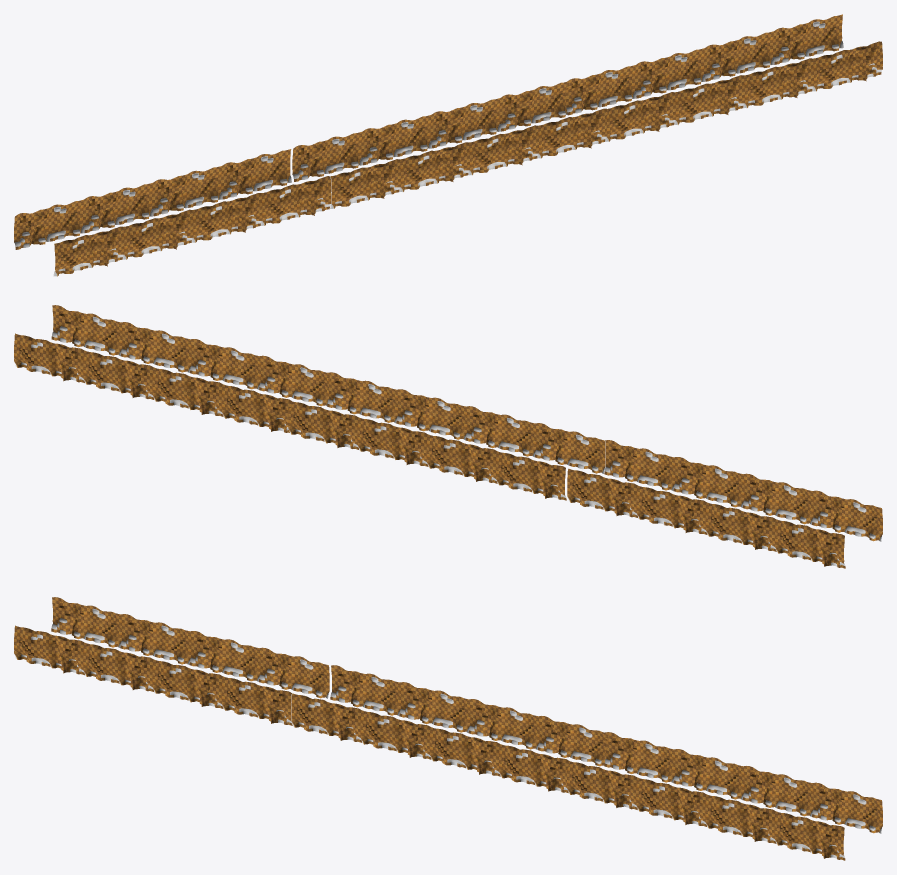
Rendered from RoadSides.obj.
The picture shows the model from 3 angles, top to bottom: view 1: azimuth 30°, elevation 25°; view 2: azimuth 150°, elevation 25°; view 3: azimuth 330°, elevation 25°; orthographic projection.
Parts seen in each view (by area): view 1: ghz01A_sk_rockwallC_03.006_ghz01A_sk_rockwallC_03.008, ghz01A_sk_rockwallC_02.001_ghz01A_sk_rockwallC_02.004, ghz01A_sk_rockwallC_02.006_ghz01A_sk_rockwallC_02.007, ghz01A_sk_rockwallC_39.001_ghz01A_sk_rockwallC_39.003, ghz01A_sk_rockwallC_39.006_ghz01A_sk_rockwallC_39.007, ghz01A_sk_rockwallC_17.006_ghz01A_sk_rockwallC_17.007, ghz01A_sk_rockwallC_17.001_ghz01A_sk_rockwallC_17.003, ghz01A_sk_rockwallC_03.002, ghz01A_sk_rockwallC_17.002, ghz01A_sk_rockwallC_02.002_ghz01A_sk_rockwallC_02.003, ghz01A_sk_rockwallC_39.002, ghz01A_sk_rockwallC_02.000 (+12 smaller); view 2: ghz01A_sk_rockwallC_03.000_ghz01A_sk_rockwallC_03.001, ghz01A_sk_rockwallC_02.000, ghz01A_sk_rockwallC_03.003_ghz01A_sk_rockwallC_03.004, ghz01A_sk_rockwallC_17.000, ghz01A_sk_rockwallC_02.004_ghz01A_sk_rockwallC_02.006, ghz01A_sk_rockwallC_02.003_ghz01A_sk_rockwallC_02.005, ghz01A_sk_rockwallC_39.000, ghz01A_sk_rockwallC_17.003_ghz01A_sk_rockwallC_17.004, ghz01A_sk_rockwallC_39.004_ghz01A_sk_rockwallC_39.005, ghz01A_sk_rockwallC_17.004_ghz01A_sk_rockwallC_17.005, ghz01A_sk_rockwallC_39.003_ghz01A_sk_rockwallC_39.004, ghz01A_sk_rockwallC_03.004_ghz01A_sk_rockwallC_03.005 (+12 smaller); view 3: ghz01A_sk_rockwallC_02.006_ghz01A_sk_rockwallC_02.007, ghz01A_sk_rockwallC_17.006_ghz01A_sk_rockwallC_17.007, ghz01A_sk_rockwallC_02.002_ghz01A_sk_rockwallC_02.003, ghz01A_sk_rockwallC_03.006_ghz01A_sk_rockwallC_03.008, ghz01A_sk_rockwallC_03.002, ghz01A_sk_rockwallC_17.002, ghz01A_sk_rockwallC_17.001_ghz01A_sk_rockwallC_17.003, ghz01A_sk_rockwallC_02.001_ghz01A_sk_rockwallC_02.004, ghz01A_sk_rockwallC_39.006_ghz01A_sk_rockwallC_39.007, ghz01A_sk_rockwallC_39.001_ghz01A_sk_rockwallC_39.003, ghz01A_sk_rockwallC_39.002, ghz01A_sk_rockwallC_17.003_ghz01A_sk_rockwallC_17.004 (+12 smaller).
Part boxes in pixels (box(x1,y1,x2,y2)): ghz01A_sk_rockwallC_03.006_ghz01A_sk_rockwallC_03.008: box(221, 149, 291, 199); ghz01A_sk_rockwallC_02.001_ghz01A_sk_rockwallC_02.004: box(430, 98, 501, 148); ghz01A_sk_rockwallC_02.006_ghz01A_sk_rockwallC_02.007: box(152, 166, 222, 216); ghz01A_sk_rockwallC_39.001_ghz01A_sk_rockwallC_39.003: box(292, 132, 362, 181); ghz01A_sk_rockwallC_39.006_ghz01A_sk_rockwallC_39.007: box(14, 199, 84, 249); ghz01A_sk_rockwallC_17.006_ghz01A_sk_rockwallC_17.007: box(83, 183, 153, 232); ghz01A_sk_rockwallC_17.001_ghz01A_sk_rockwallC_17.003: box(361, 114, 432, 165); ghz01A_sk_rockwallC_03.002: box(773, 14, 843, 64); ghz01A_sk_rockwallC_17.002: box(635, 48, 705, 98); ghz01A_sk_rockwallC_02.002_ghz01A_sk_rockwallC_02.003: box(704, 31, 774, 81); ghz01A_sk_rockwallC_39.002: box(566, 65, 636, 115); ghz01A_sk_rockwallC_02.000: box(122, 209, 193, 259); ghz01A_sk_rockwallC_03.000_ghz01A_sk_rockwallC_03.001: box(812, 490, 882, 541); ghz01A_sk_rockwallC_02.000: box(742, 473, 813, 524); ghz01A_sk_rockwallC_03.003_ghz01A_sk_rockwallC_03.004: box(535, 423, 605, 473); ghz01A_sk_rockwallC_17.000: box(673, 457, 744, 507); ghz01A_sk_rockwallC_02.004_ghz01A_sk_rockwallC_02.006: box(190, 339, 260, 389); ghz01A_sk_rockwallC_02.003_ghz01A_sk_rockwallC_02.005: box(465, 406, 536, 456); ghz01A_sk_rockwallC_39.000: box(604, 440, 675, 490); ghz01A_sk_rockwallC_17.003_ghz01A_sk_rockwallC_17.004: box(396, 389, 467, 440); ghz01A_sk_rockwallC_39.004_ghz01A_sk_rockwallC_39.005: box(51, 305, 122, 355); ghz01A_sk_rockwallC_17.004_ghz01A_sk_rockwallC_17.005: box(120, 322, 191, 372); ghz01A_sk_rockwallC_39.003_ghz01A_sk_rockwallC_39.004: box(327, 372, 397, 423); ghz01A_sk_rockwallC_03.004_ghz01A_sk_rockwallC_03.005: box(259, 355, 329, 406); ghz01A_sk_rockwallC_02.006_ghz01A_sk_rockwallC_02.007: box(189, 631, 260, 681); ghz01A_sk_rockwallC_17.006_ghz01A_sk_rockwallC_17.007: box(120, 614, 191, 664); ghz01A_sk_rockwallC_02.002_ghz01A_sk_rockwallC_02.003: box(743, 766, 813, 816); ghz01A_sk_rockwallC_03.006_ghz01A_sk_rockwallC_03.008: box(259, 647, 329, 698); ghz01A_sk_rockwallC_03.002: box(812, 782, 882, 833); ghz01A_sk_rockwallC_17.002: box(673, 749, 744, 799); ghz01A_sk_rockwallC_17.001_ghz01A_sk_rockwallC_17.003: box(399, 682, 470, 732); ghz01A_sk_rockwallC_02.001_ghz01A_sk_rockwallC_02.004: box(468, 699, 539, 749); ghz01A_sk_rockwallC_39.006_ghz01A_sk_rockwallC_39.007: box(51, 597, 122, 647); ghz01A_sk_rockwallC_39.001_ghz01A_sk_rockwallC_39.003: box(330, 665, 401, 715); ghz01A_sk_rockwallC_39.002: box(604, 732, 675, 782); ghz01A_sk_rockwallC_17.003_ghz01A_sk_rockwallC_17.004: box(429, 727, 500, 776).
Bounding box in the file's own units: 4.88 × 0.1941 × 0.4492.
Materials: 5 (1 with a texture image).
